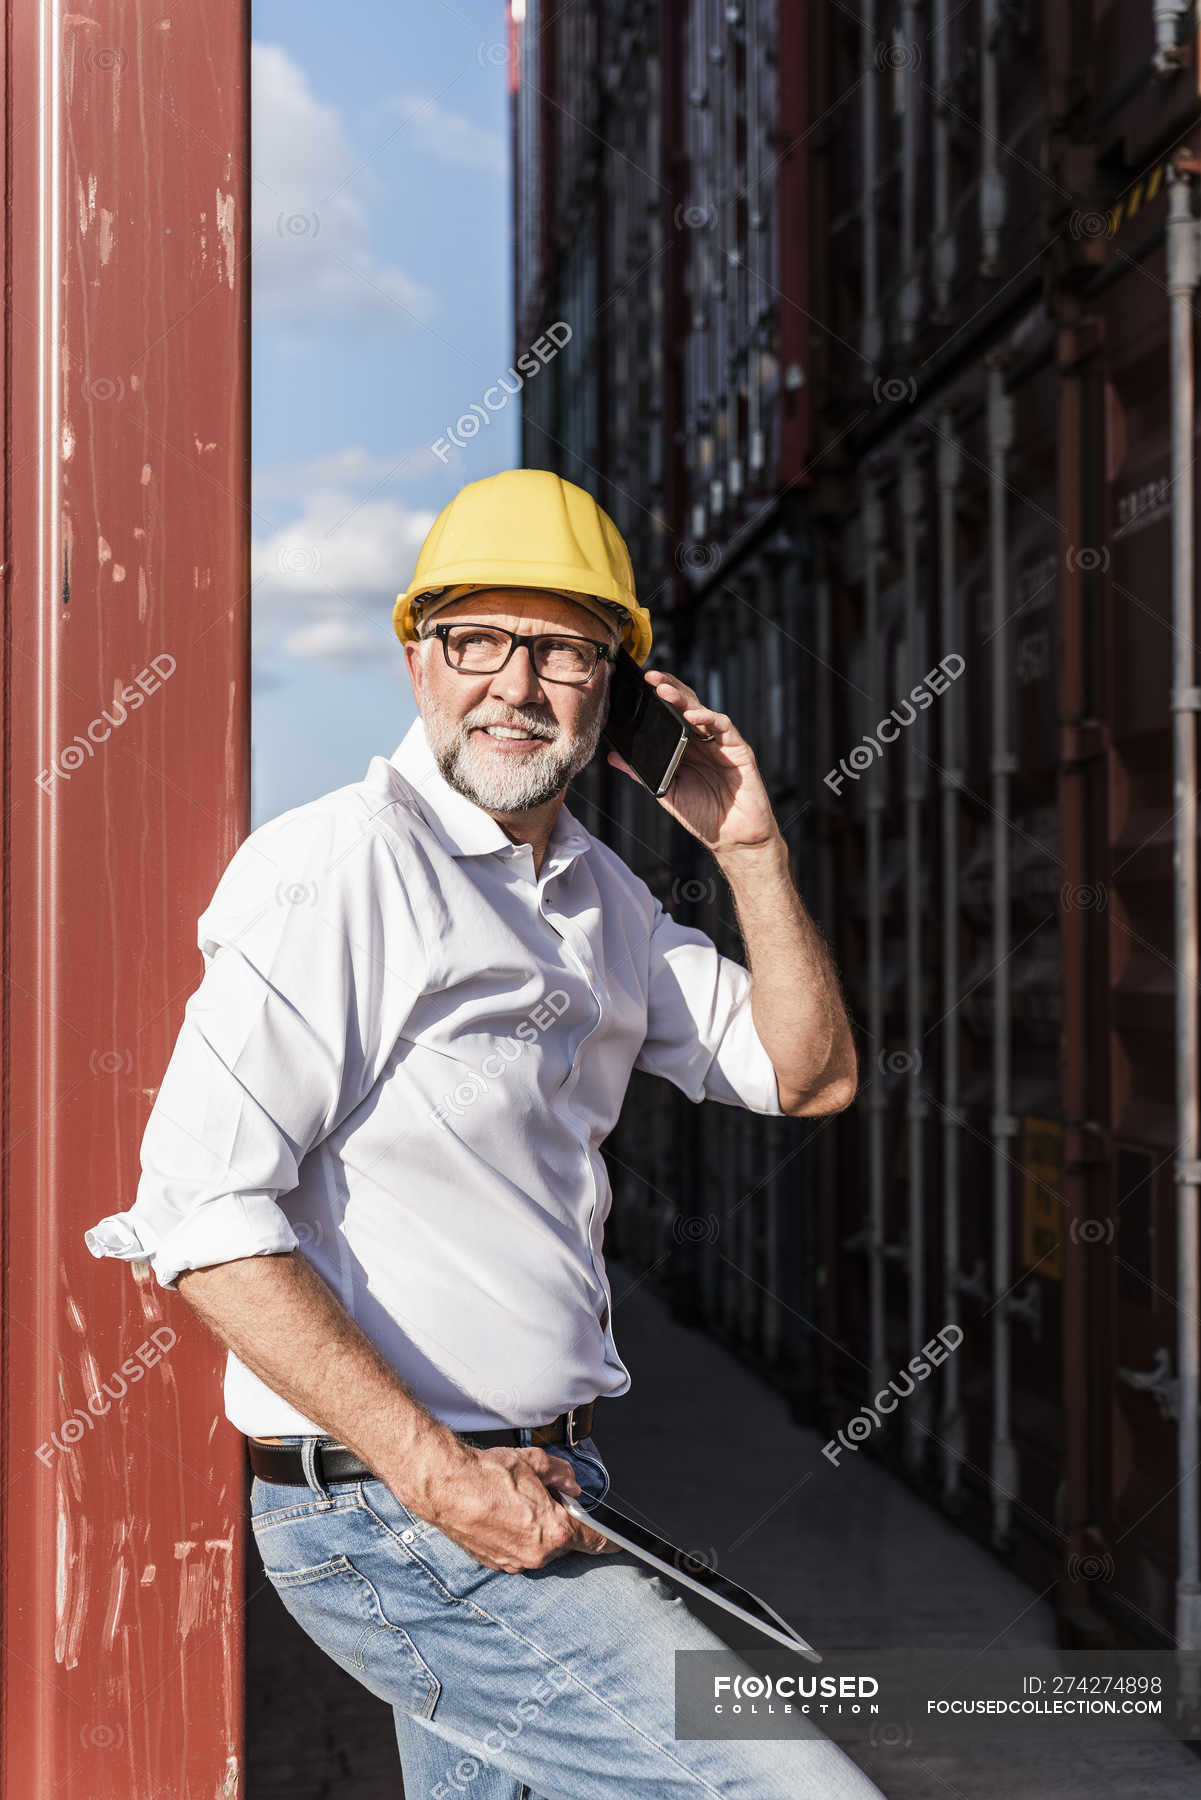Person_wearing_helmet: (355, 428, 658, 716)
